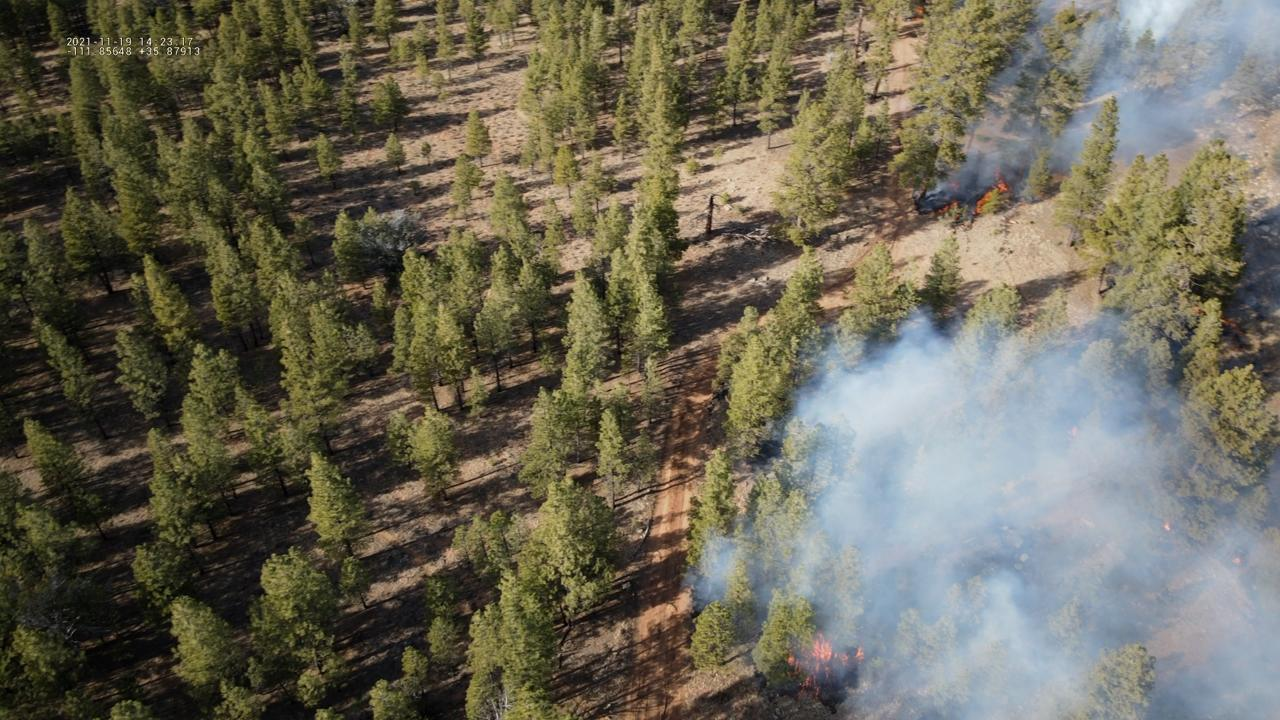fire: (784, 630, 866, 701), (974, 165, 1008, 215), (938, 200, 958, 213), (1070, 425, 1079, 440), (1231, 557, 1243, 566), (915, 6, 924, 15), (1163, 523, 1171, 533)
smoke: (677, 302, 1280, 720), (913, 0, 1280, 227)
